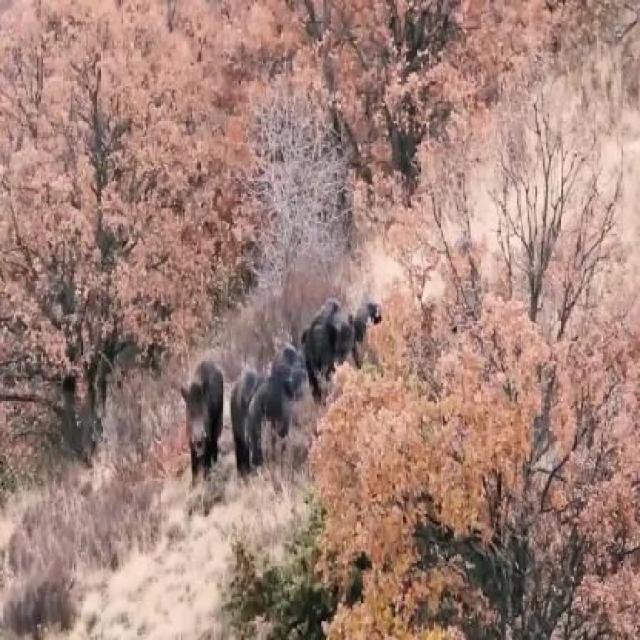pig: (178, 308, 241, 496), (256, 339, 306, 466), (314, 294, 379, 360)
